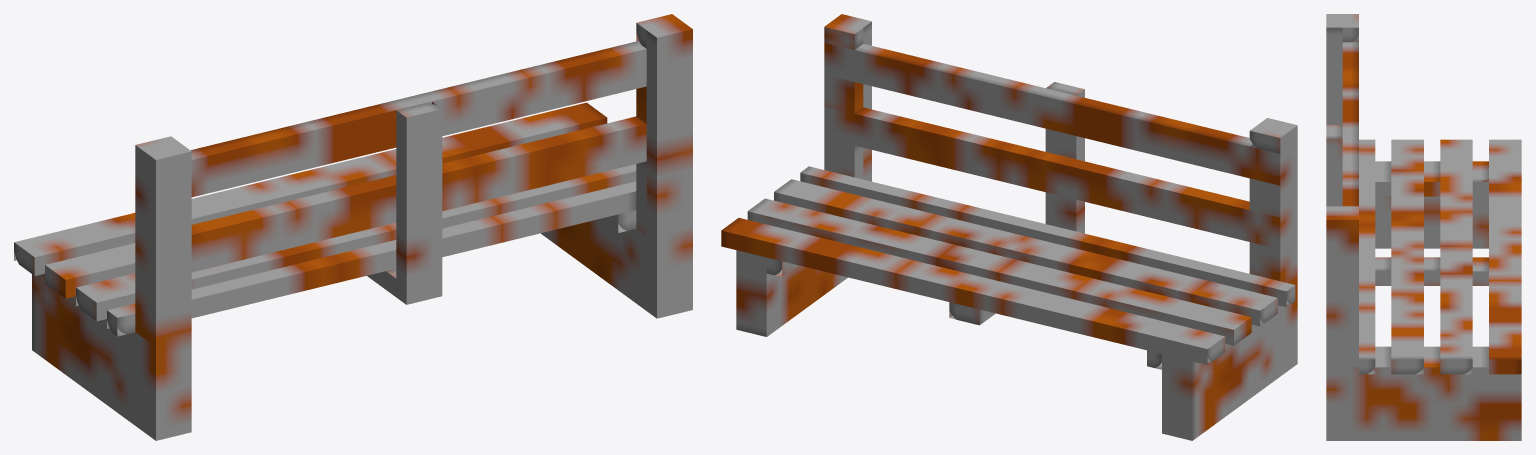
The model's file is Ławka_rdza.dae.
The picture shows the model from 3 angles, left to right: view 1: azimuth 30°, elevation 25°; view 2: azimuth 150°, elevation 25°; view 3: azimuth 270°, elevation 25°; orthographic projection. The views are drawn at different scales.
Visible parts, largest first — view 1: Content; view 2: Content; view 3: Content.
Boxes of the visible parts, x1=… form: Content: x1=14, y1=14, x2=692, y2=440; Content: x1=721, y1=14, x2=1297, y2=440; Content: x1=1326, y1=14, x2=1521, y2=440.
Bounding box in the file's own units: 32 × 15 × 12.
1 material, 1 textured.
